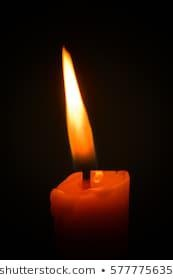fire: (61, 42, 93, 161)
